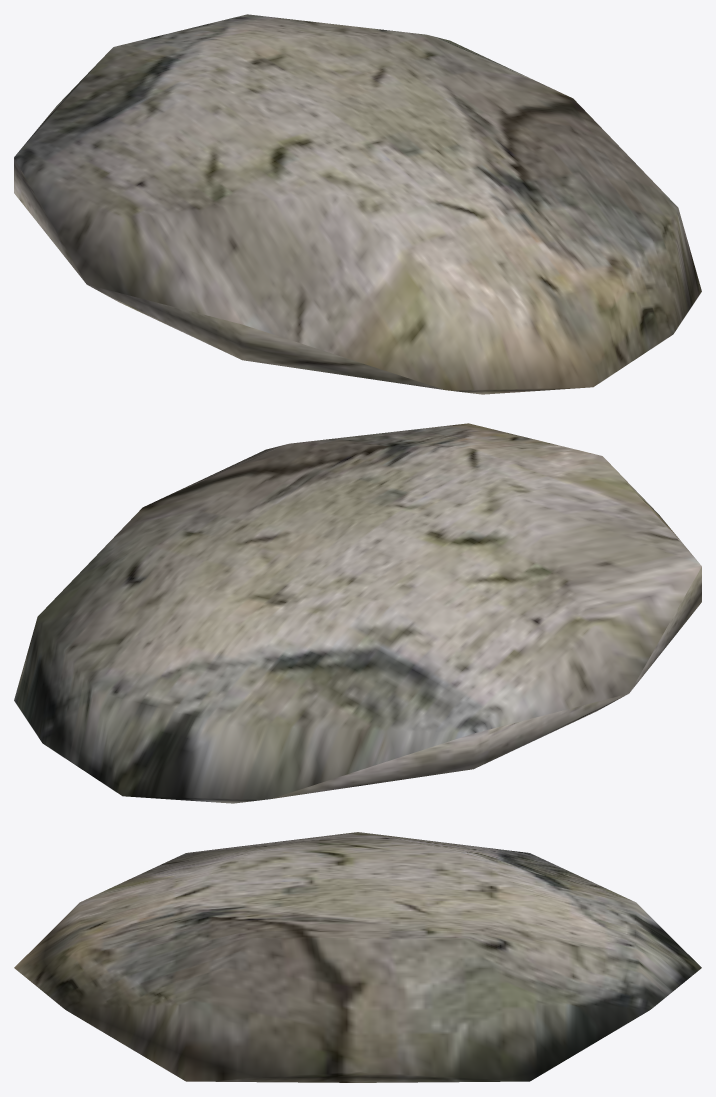
Rendered from stone1.obj.
The picture shows the model from 3 angles, top to bottom: view 1: azimuth 30°, elevation 25°; view 2: azimuth 150°, elevation 25°; view 3: azimuth 270°, elevation 25°; orthographic projection. The views are drawn at different scales.
Visible parts, largest first — view 1: GeoSphere03, old; view 2: GeoSphere03, old; view 3: GeoSphere03.
Part boxes in pixels (left/top/right/bottom): GeoSphere03: left=14, top=14, right=701, bottom=394; old: left=14, top=158, right=443, bottom=389; GeoSphere03: left=14, top=423, right=701, bottom=803; old: left=272, top=567, right=701, bottom=798; GeoSphere03: left=14, top=832, right=701, bottom=1082.
Bounding box in the file's own units: 115 × 38.26 × 168.
1 material, 1 textured.
